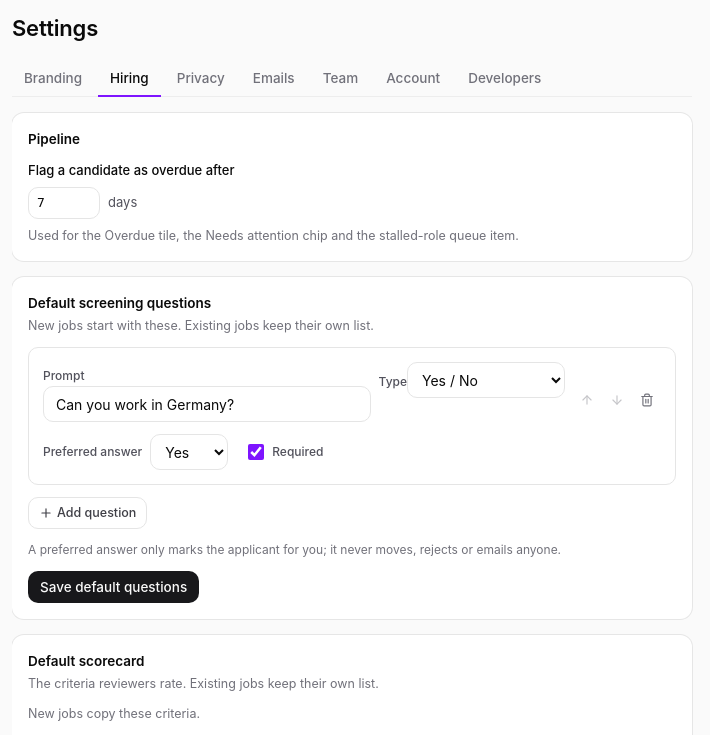
Test: HiringSettingsPage default screening questions › saves the edited set as the whole list
Expected: the field labelled "Prompt" is shown, top-left (43, 386), bottom-right (370, 422)
Click the button named "Remove question 1".
click(647, 400)  # box top-left (633, 386), bottom-right (661, 414)
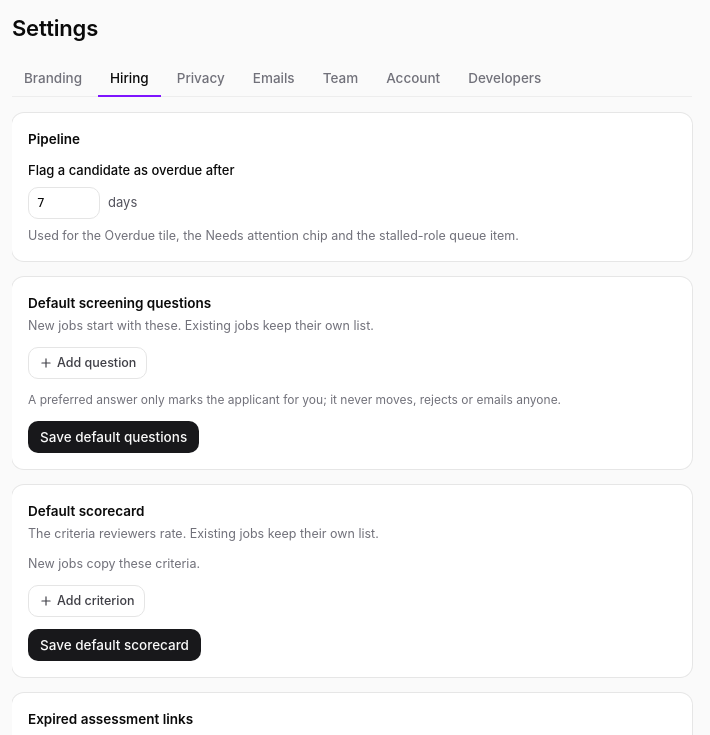
Click the button "Save default questions".
click(114, 437)  # box top-left (28, 421), bottom-right (199, 453)
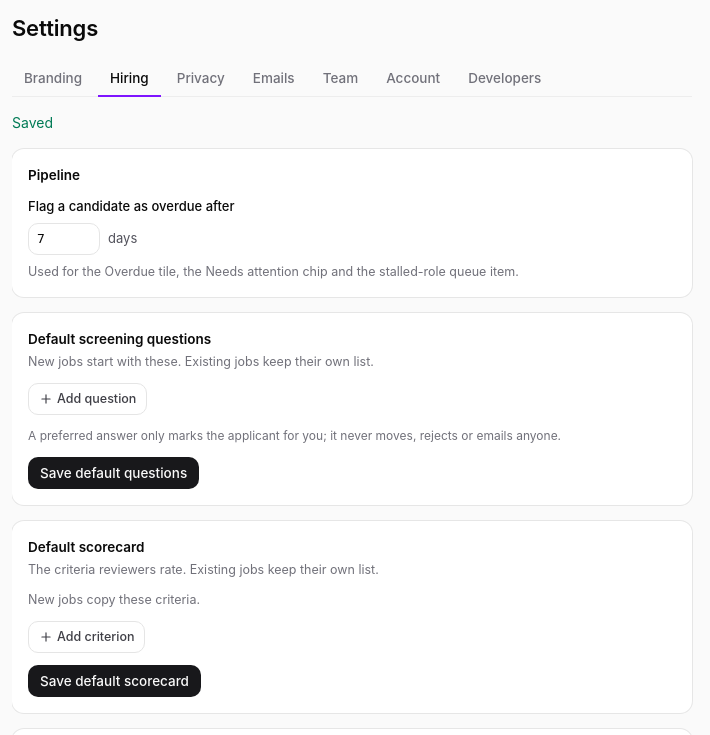
Expected: the message reads "Saved", top-left (12, 114), bottom-right (53, 131)
